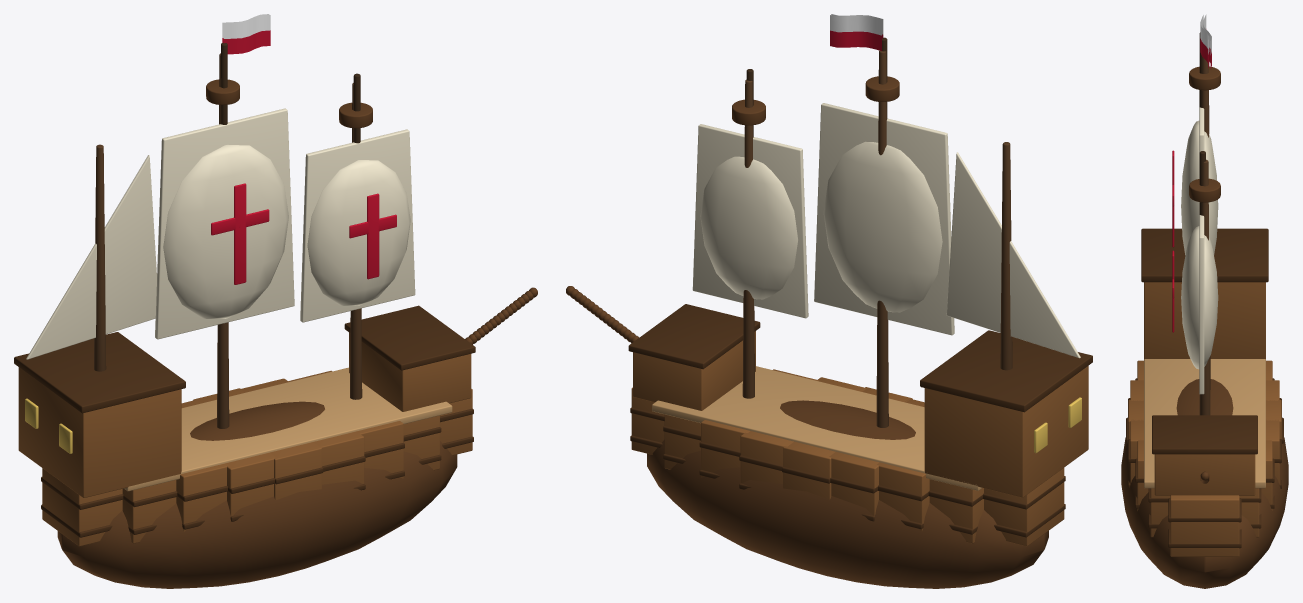
File: navio_caravela.glb
3 renders of one model, left to right at view 1: azimuth 30°, elevation 25°; view 2: azimuth 150°, elevation 25°; view 3: azimuth 270°, elevation 25°, orthographic. The views are drawn at different scales.
Visible parts, largest first — view 1: navio_caravela; view 2: navio_caravela; view 3: navio_caravela.
Boxes of the visible parts, x1,y1,x2,y2 form: navio_caravela: [14, 14, 537, 588]; navio_caravela: [566, 14, 1092, 588]; navio_caravela: [1121, 14, 1288, 588].
Bounding box in the file's own units: 5.19 × 5.38 × 1.58.
